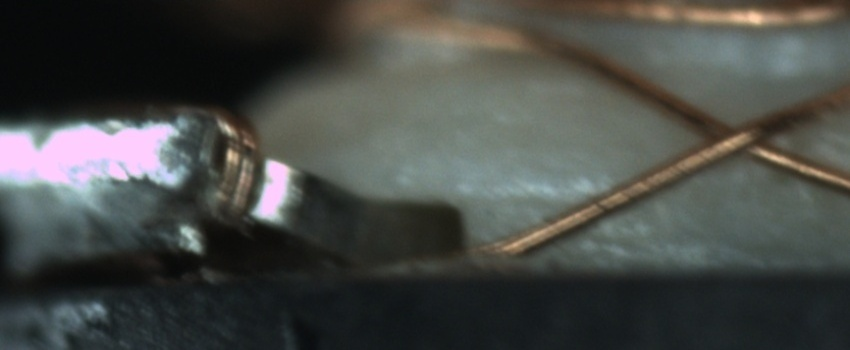CL: (674, 98, 806, 167)
DL: (463, 166, 609, 228)
TE: (162, 87, 264, 249)
